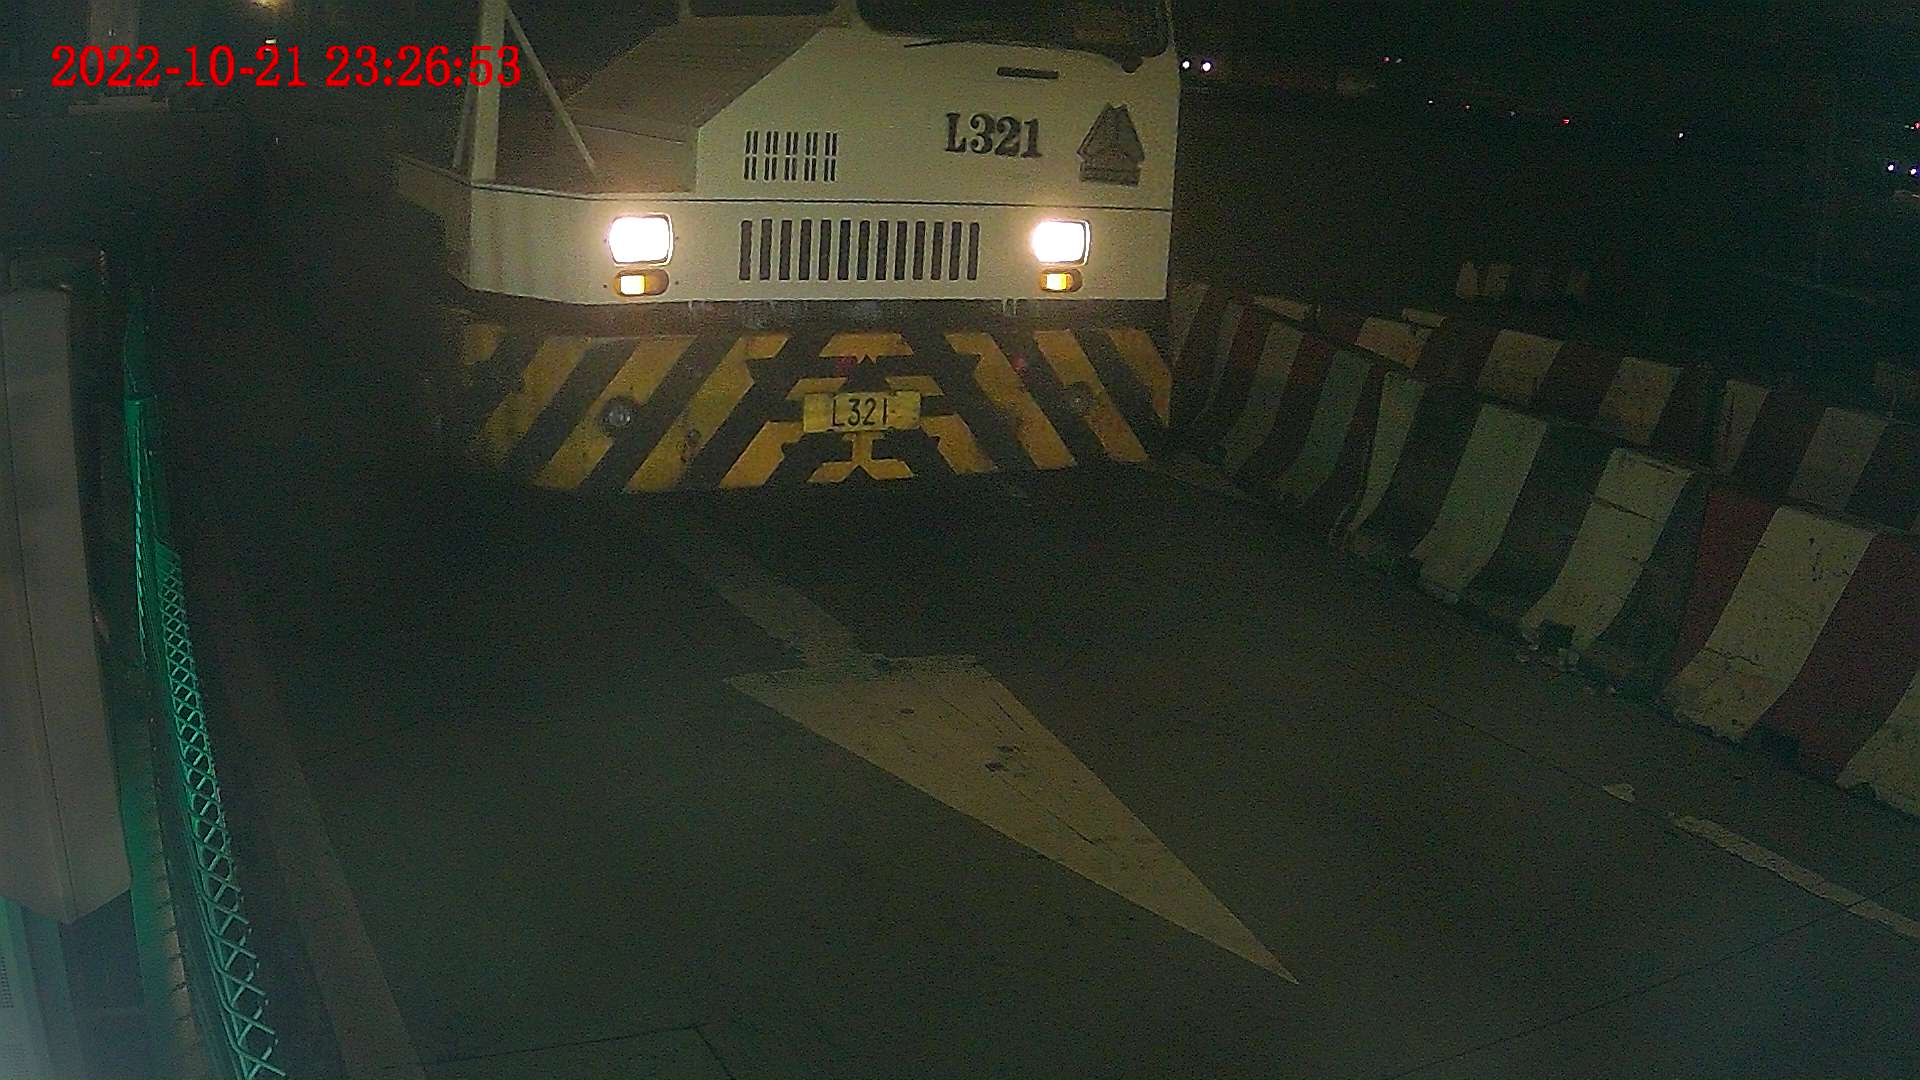head: (272, 1, 1188, 493)
plate: (804, 397, 918, 432)
